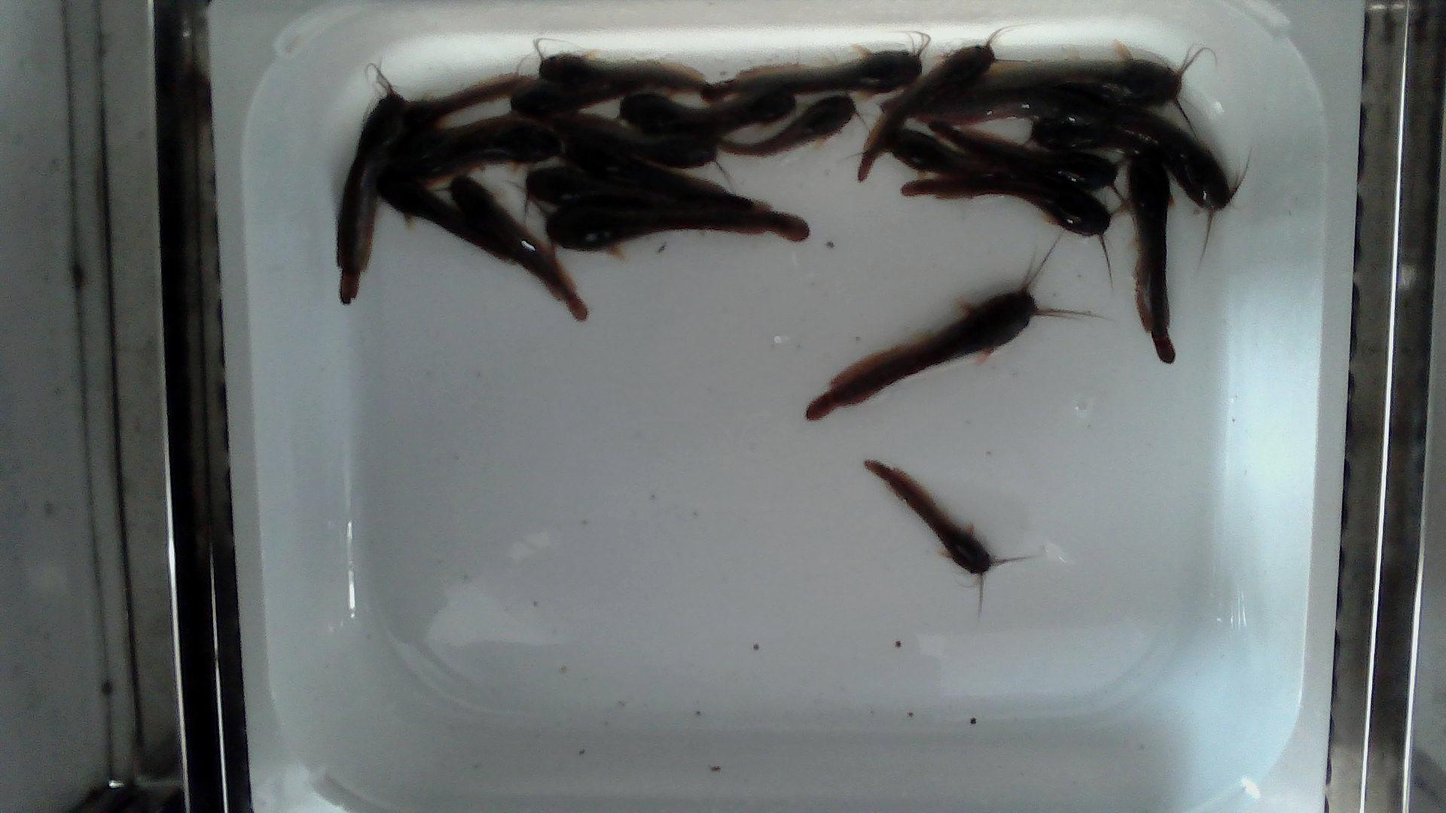lele: (807, 242, 1084, 419), (1085, 104, 1252, 270), (900, 175, 1124, 290), (865, 461, 1028, 615), (436, 165, 588, 325), (971, 41, 1209, 138), (858, 25, 1003, 181), (337, 60, 414, 307), (927, 119, 1128, 206), (535, 200, 809, 262), (703, 31, 930, 102), (376, 175, 528, 270), (564, 134, 754, 210), (533, 36, 725, 105), (524, 113, 724, 170), (714, 88, 868, 158), (524, 162, 739, 212), (397, 71, 532, 149), (383, 123, 572, 178), (1127, 150, 1174, 362), (915, 81, 1122, 128), (630, 90, 797, 140), (396, 113, 523, 171), (885, 129, 1028, 180), (613, 87, 776, 127), (507, 78, 659, 119), (1023, 116, 1145, 152)
